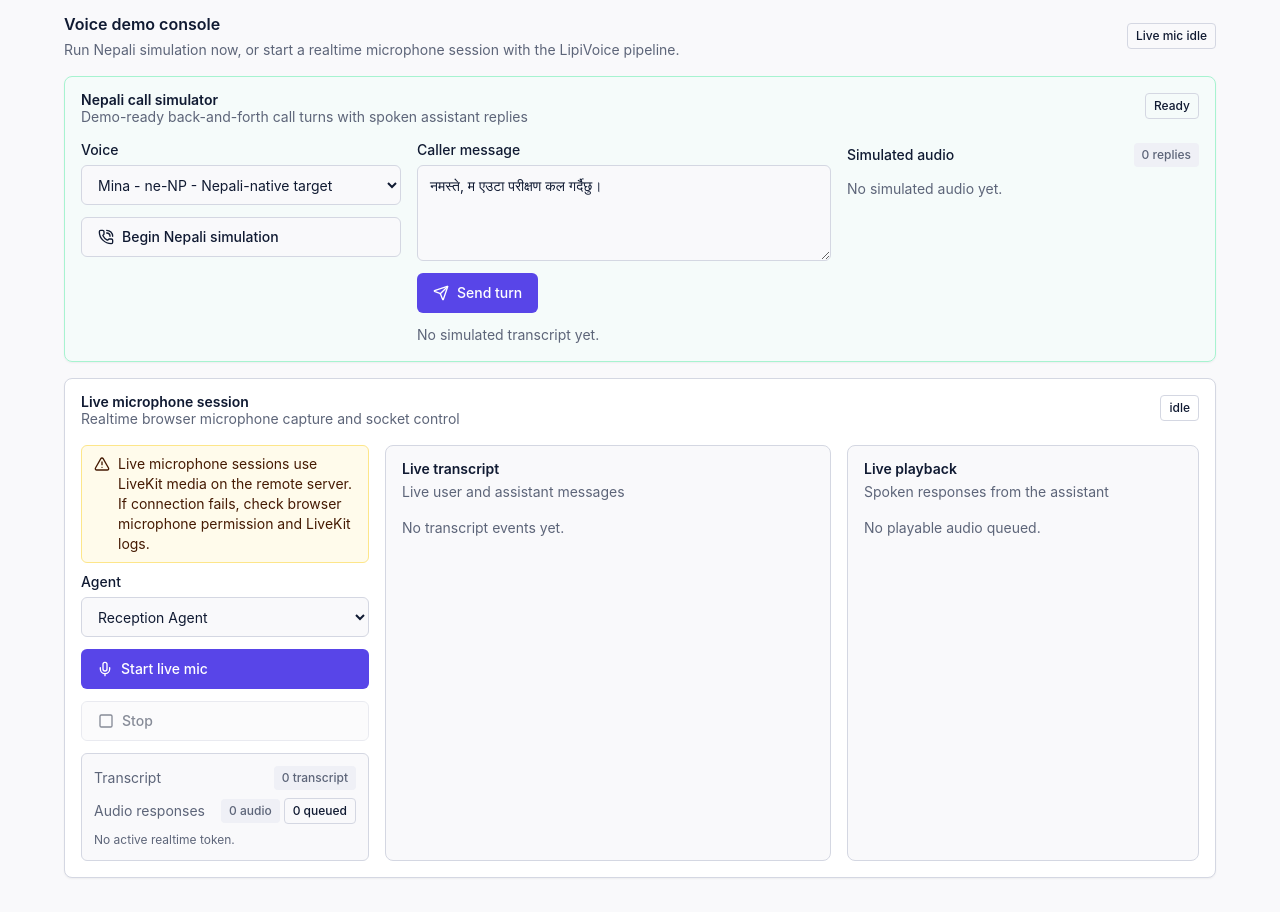
Test: VoiceConsolePage › shows a clear unsupported error when recording is unavailable
Step 1. Click the button "Start live mic" → point(164, 668), box [81,649,369,689]
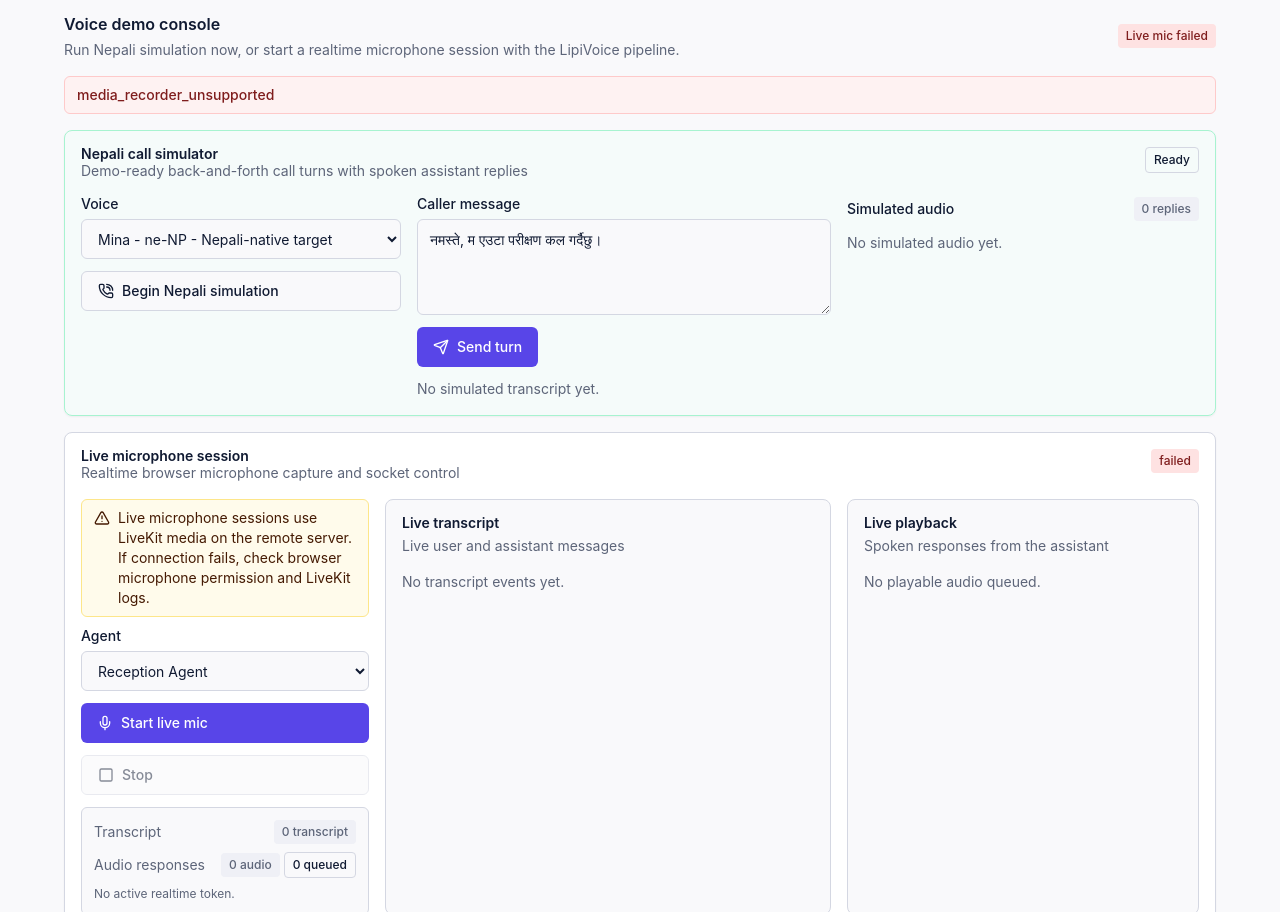
Now the text "media_recorder_unsupported" is shown, box [64,76,1216,114]
Now the text "failed" is shown, box [1151,449,1199,473]
